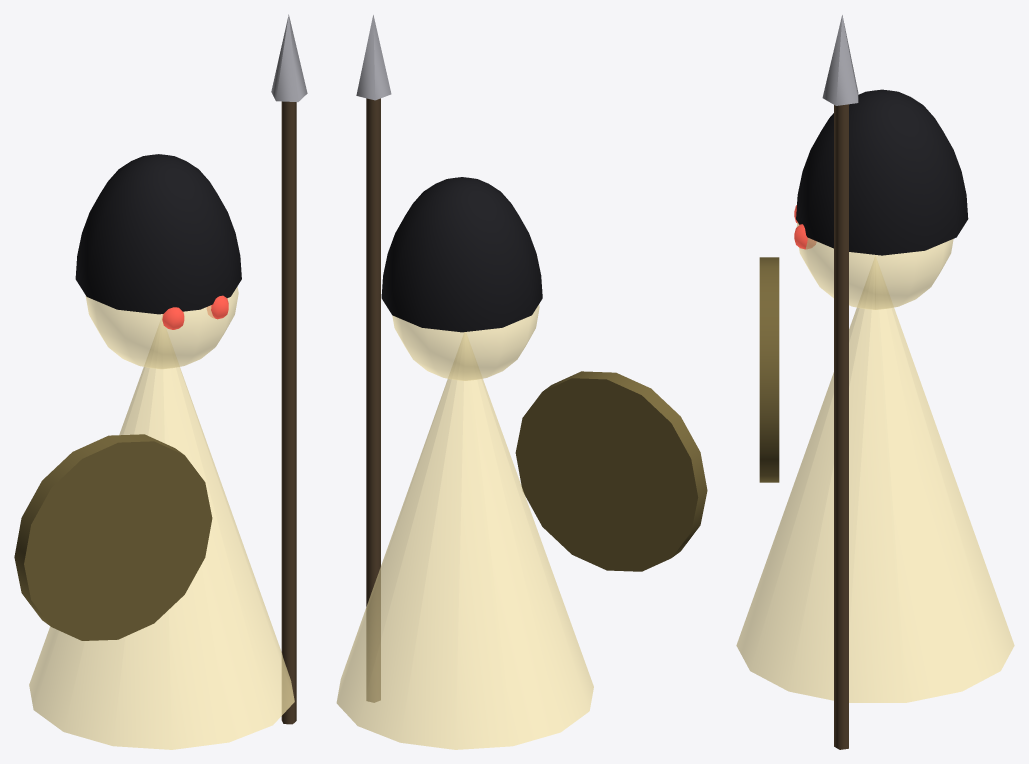
Rendered from soldier.glb.
3 renders of one model, left to right at view 1: azimuth 30°, elevation 25°; view 2: azimuth 150°, elevation 25°; view 3: azimuth 270°, elevation 25°, orthographic. The views are drawn at different scales.
Size of the model in its own units: 1.16 by 2.44 by 0.84.
